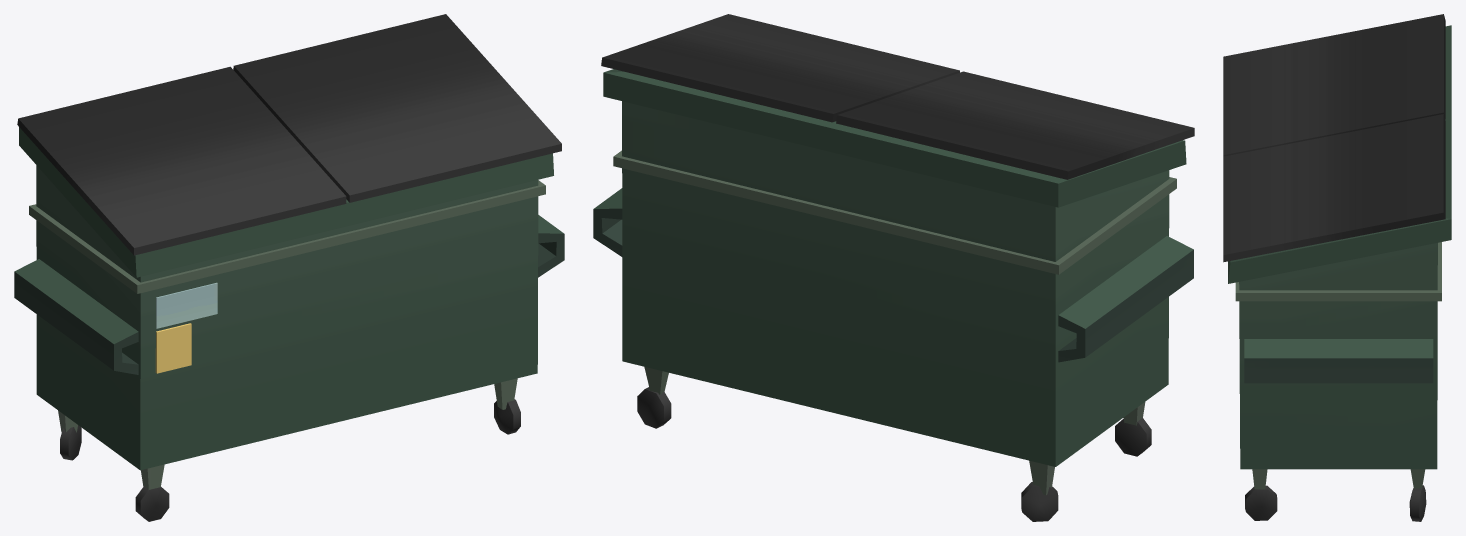
Rendered from Trash Bin.fbx.
3 views of the same model, side by side, from view 1: azimuth 30°, elevation 25°; view 2: azimuth 150°, elevation 25°; view 3: azimuth 270°, elevation 25° (orthographic). The views are drawn at different scales.
Parts seen in each view (by area): view 1: TrashCan; view 2: TrashCan; view 3: TrashCan.
Boxes of the visible parts, left/top/right/bottom form: TrashCan: left=14, top=14, right=564, bottom=521; TrashCan: left=593, top=14, right=1194, bottom=521; TrashCan: left=1223, top=14, right=1451, bottom=521.
Bounding box in the file's own units: 130 × 93.19 × 59.93.
